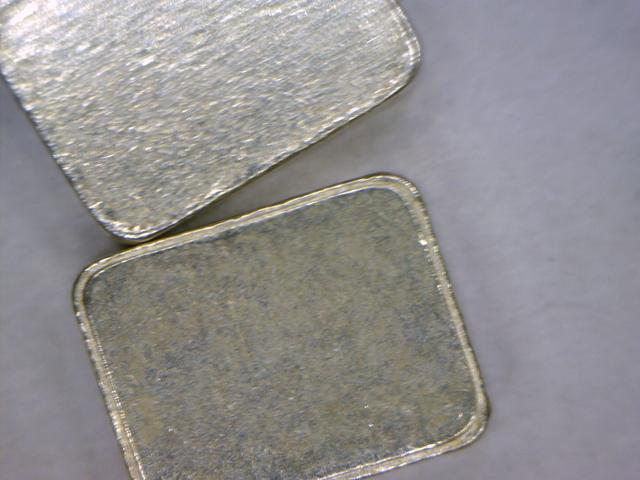nok: (73, 166, 511, 478)
